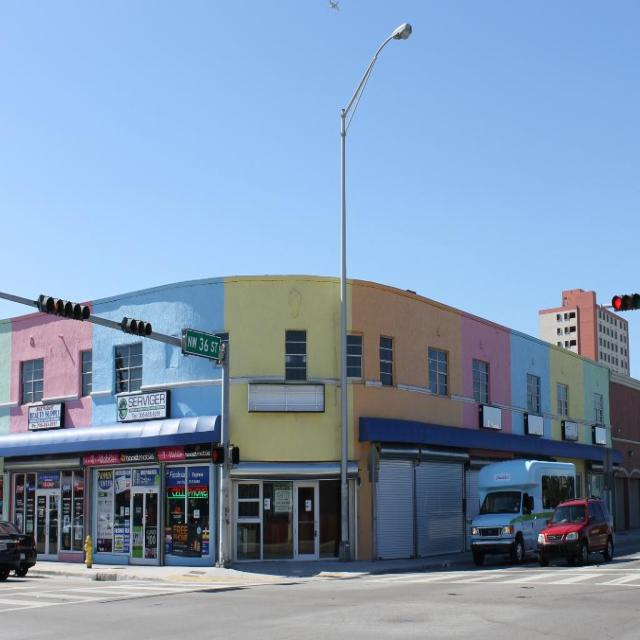car: (535, 494, 616, 564)
